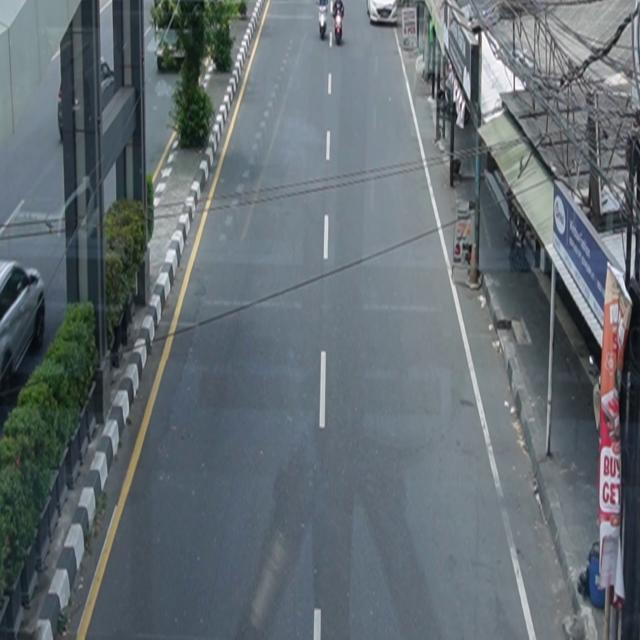car: (1, 259, 46, 387), (156, 28, 192, 72), (367, 1, 398, 26)
